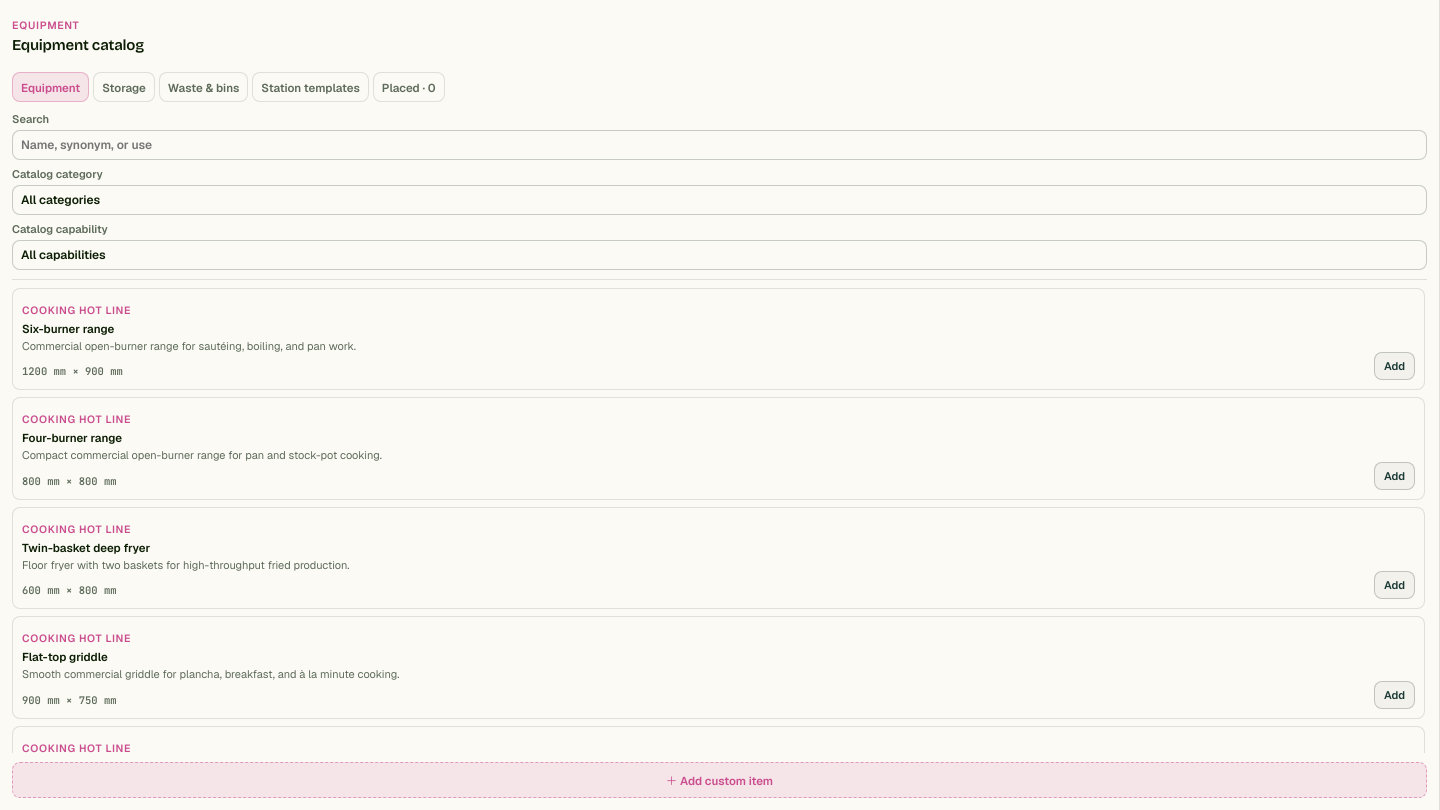
equipment catalog gallery › renders a useful empty state
Type "no-such-kitchen-component-zzzz" into the search field labelled "Search" at {"x": 720, "y": 145}, box [12, 130, 1427, 160]
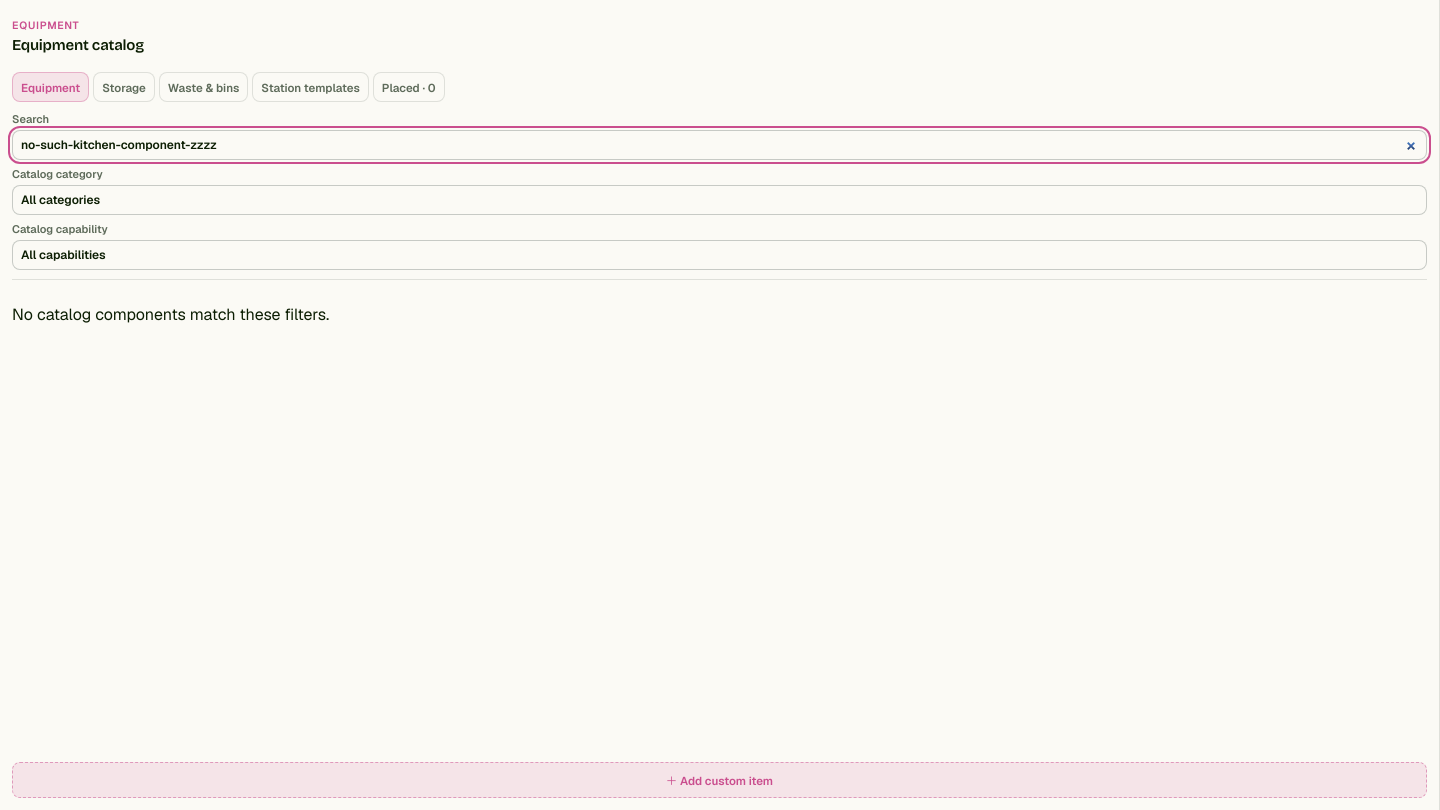
Check: the text "No catalog components match these filters." is shown, box [12, 304, 329, 325]
